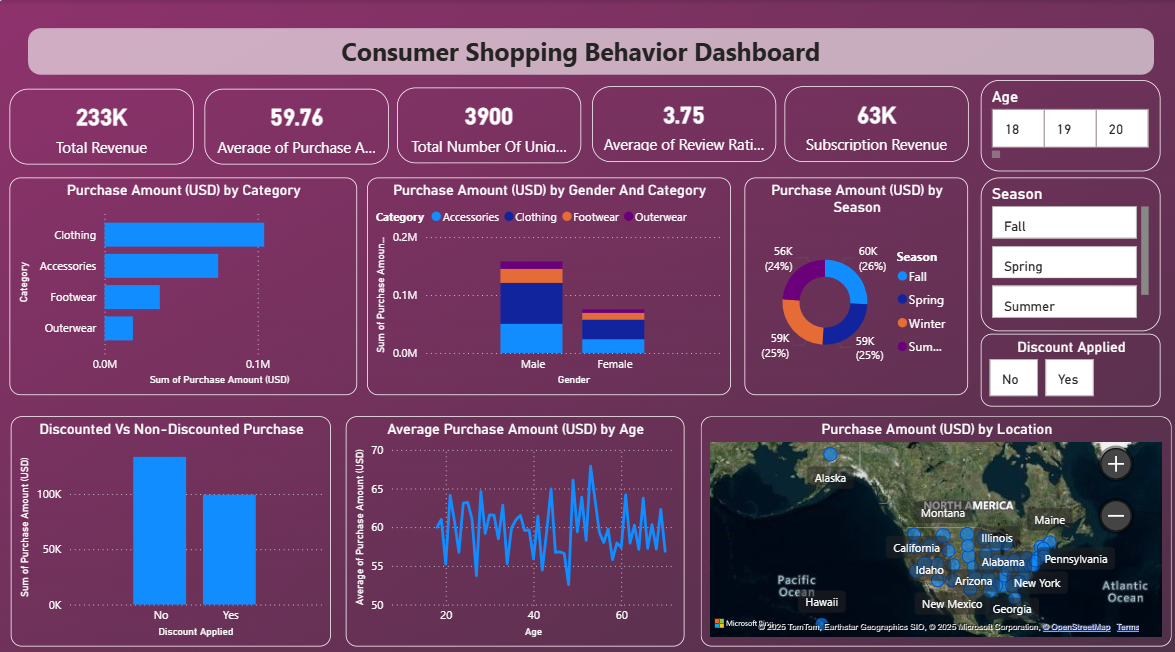

What the dashboard file says about the page in this screenshot:
{"tool":"powerbi","page":{"name":"Dashboards","canvas":[1280,720],"ordinal":0},"visuals":[{"type":"card","fields":{"Values":["Sum(Consumer Shopping Behavior.Purchase Amount (USD))"]},"box":[13.9,95.6,198.1,81.7],"z":0},{"type":"card","fields":{"Values":["Avg(Consumer Shopping Behavior.Purchase Amount (USD))"]},"box":[223.1,95.6,198.1,81.7],"z":1000},{"type":"card","fields":{"Values":["Count(Consumer Shopping Behavior.Customer ID)"]},"box":[430.9,94.2,198.1,81.7],"z":2000},{"type":"card","fields":{"Values":["Avg(Consumer Shopping Behavior.Review Rating)"]},"box":[640.1,92.8,198.1,81.7],"z":3000},{"type":"card","fields":{"Values":["Sum(Consumer Shopping Behavior.Purchase Amount (USD))"]},"box":[848,92.8,198.1,81.7],"z":4000},{"type":"barChart","title":"Purchase Amount (USD) by Category","fields":{"Y":["Sum(Consumer Shopping Behavior.Purchase Amount (USD))"],"Category":["Consumer Shopping Behavior.Category"]},"box":[13.9,191.2,374.1,234.2],"z":5000},{"type":"columnChart","title":"Purchase Amount (USD) by Gender And Category","fields":{"Y":["Sum(Consumer Shopping Behavior.Purchase Amount (USD))"],"Category":["Consumer Shopping Behavior.Gender"],"Series":["Consumer Shopping Behavior.Category"]},"box":[399,191.2,392.1,234.2],"z":6000},{"type":"donutChart","title":"Purchase Amount (USD) by  Season","fields":{"Y":["Sum(Consumer Shopping Behavior.Purchase Amount (USD))"],"Category":["Consumer Shopping Behavior.Season"]},"box":[805,191.2,241.1,234.2],"z":7000},{"type":"clusteredColumnChart","title":"Discounted Vs Non-Discounted Purchase","fields":{"Category":["Consumer Shopping Behavior.Discount Applied"],"Y":["Sum(Consumer Shopping Behavior.Purchase Amount (USD))"]},"box":[15.2,448.9,345,248],"z":8000},{"type":"lineChart","title":"Average Purchase Amount (USD) by Age","fields":{"Y":["Avg(Consumer Shopping Behavior.Purchase Amount (USD))"],"Category":["Consumer Shopping Behavior.Age"]},"box":[375.5,448.9,364.4,248],"z":9000},{"type":"map","title":"Purchase Amount (USD) by Location","fields":{"Category":["Consumer Shopping Behavior.Location"],"Size":["Sum(Consumer Shopping Behavior.Purchase Amount (USD))"]},"box":[757.9,448.9,507.1,248],"z":10000},{"type":"advancedSlicerVisual","fields":{"Values":["Consumer Shopping Behavior.Age"]},"box":[1059.5,86.2,193.9,98.3],"z":11000},{"type":"advancedSlicerVisual","fields":{"Values":["Consumer Shopping Behavior.Season"]},"box":[1059.5,191.2,193.9,165.6],"z":11001},{"type":"advancedSlicerVisual","fields":{"Values":["Consumer Shopping Behavior.Discount Applied"]},"box":[1059.5,359.4,193.9,78.1],"z":11002},{"type":"textbox","box":[211.4,32.3,834.7,53.8],"z":11003}]}

Visuals, with their boxes in screenshot pixels (x1, y1, x2, y2), scaled from the page's 1280x720 canvas onto the 1175x652 screenshot:
card - Sum(Consumer Shopping Behavior.Purchase Amount (USD)): x1=13 y1=87 x2=195 y2=161
card - Avg(Consumer Shopping Behavior.Purchase Amount (USD)): x1=205 y1=87 x2=387 y2=161
card - Count(Consumer Shopping Behavior.Customer ID): x1=396 y1=85 x2=577 y2=159
card - Avg(Consumer Shopping Behavior.Review Rating): x1=588 y1=84 x2=769 y2=158
card - Sum(Consumer Shopping Behavior.Purchase Amount (USD)): x1=778 y1=84 x2=960 y2=158
"Purchase Amount (USD) by Category" barChart: x1=13 y1=173 x2=356 y2=385
"Purchase Amount (USD) by Gender And Category" columnChart: x1=366 y1=173 x2=726 y2=385
"Purchase Amount (USD) by  Season" donutChart: x1=739 y1=173 x2=960 y2=385
"Discounted Vs Non-Discounted Purchase" clusteredColumnChart: x1=14 y1=407 x2=331 y2=631
"Average Purchase Amount (USD) by Age" lineChart: x1=345 y1=407 x2=679 y2=631
"Purchase Amount (USD) by Location" map: x1=696 y1=407 x2=1161 y2=631
advancedSlicerVisual - Consumer Shopping Behavior.Age: x1=973 y1=78 x2=1151 y2=167
advancedSlicerVisual - Consumer Shopping Behavior.Season: x1=973 y1=173 x2=1151 y2=323
advancedSlicerVisual - Consumer Shopping Behavior.Discount Applied: x1=973 y1=325 x2=1151 y2=396
textbox: x1=194 y1=29 x2=960 y2=78
